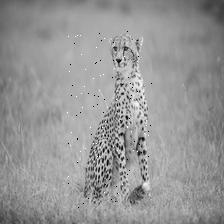Cheetha: (66, 31, 151, 209)
